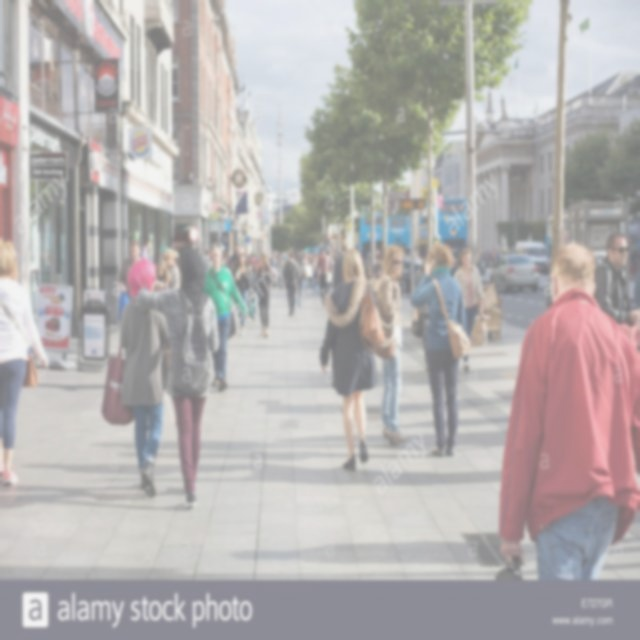pessoa: (498, 243, 640, 582), (136, 246, 220, 508), (317, 245, 387, 474), (408, 242, 474, 458), (118, 256, 171, 499), (0, 233, 50, 486), (373, 244, 410, 448), (202, 245, 250, 394), (590, 230, 640, 326), (453, 247, 485, 372), (413, 255, 432, 372), (253, 252, 274, 338), (232, 252, 252, 338), (117, 238, 143, 303), (281, 250, 302, 318), (358, 244, 388, 282), (298, 245, 339, 272), (315, 247, 333, 307), (629, 239, 640, 329), (158, 248, 180, 290), (332, 238, 350, 288), (288, 251, 302, 308), (266, 247, 284, 290), (246, 262, 258, 324), (152, 257, 170, 292), (300, 252, 313, 298), (481, 243, 504, 268), (326, 250, 336, 296), (221, 246, 239, 270), (312, 255, 321, 295), (243, 248, 260, 269), (196, 246, 212, 268), (139, 236, 152, 261), (29, 269, 41, 287), (174, 253, 181, 276), (44, 247, 50, 264), (476, 249, 480, 269)
